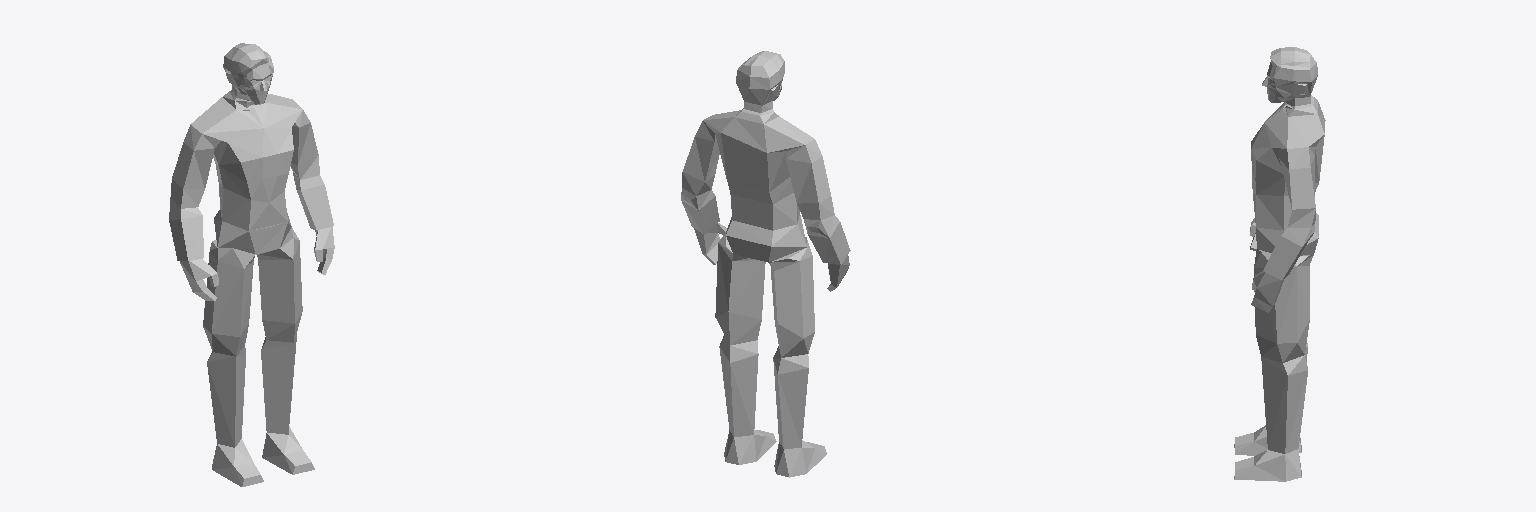
The model's file is Manuel1.obj.
The picture shows the model from 3 angles: view 1: azimuth 30°, elevation 25°; view 2: azimuth 150°, elevation 25°; view 3: azimuth 270°, elevation 25°; orthographic projection.
Parts seen in each view (by area): view 1: leon; view 2: leon; view 3: leon.
Part boxes in pixels (x1,y1,x2,y2): leon: (169, 43, 334, 486); leon: (681, 51, 850, 477); leon: (1234, 47, 1325, 481).
Size of the model in its own units: 4.69 by 12.18 by 2.44.